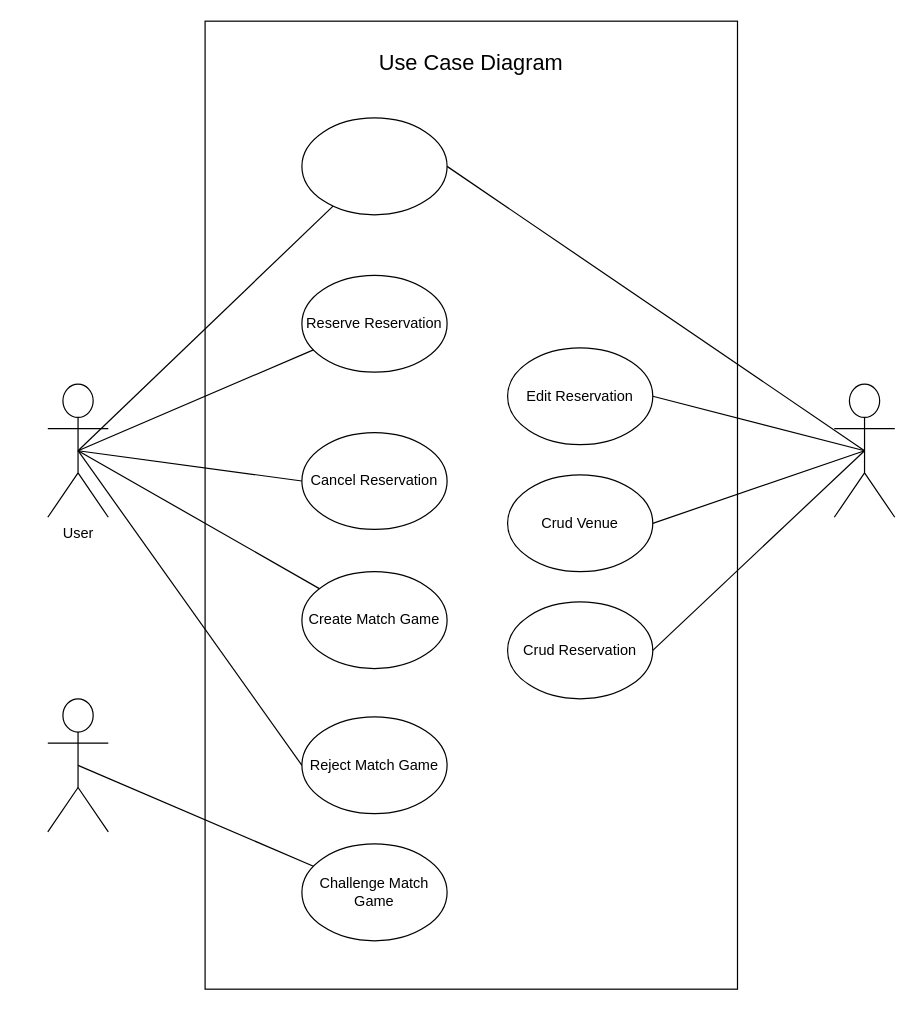
Some shapes in this 916 by 1010 pixel diagram are drawn without their labels. The shapes that lost their labels are listed below. From the top down, each one's centre as x and y in pixels, then its label:
point 374,166: Sign In/Sign Up
point 864,450: Admin
point 77,765: User (Challenger)
